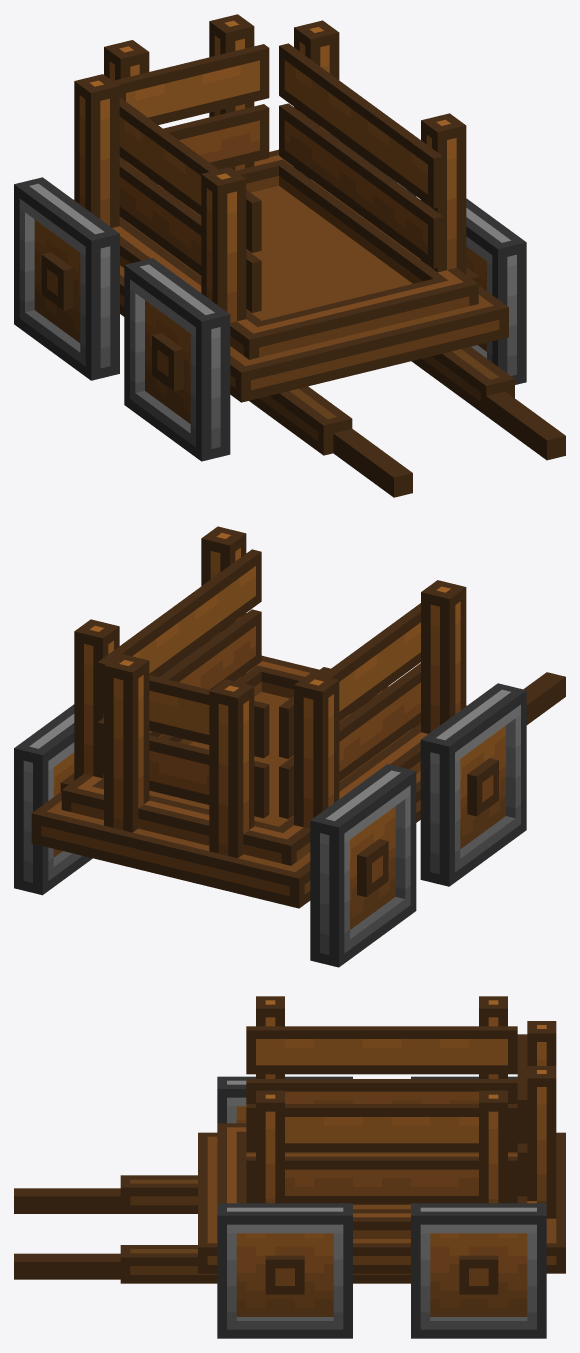
Rendered from Four Wheel Cart.fbx.
3 renders of one model, top to bottom at view 1: azimuth 30°, elevation 25°; view 2: azimuth 150°, elevation 25°; view 3: azimuth 270°, elevation 25°, orthographic. The views are drawn at different scales.
Parts seen in each view (by area): view 1: Four Wheel Cart; view 2: Four Wheel Cart; view 3: Four Wheel Cart.
Boxes of the visible parts, x1,y1,x2,y2 form: Four Wheel Cart: (14,14,565,497); Four Wheel Cart: (14,526,565,967); Four Wheel Cart: (14,996,565,1338).
Bounding box in the file's own units: 0.68 × 1.14 × 0.5.
Materials: 1 (1 with a texture image).
